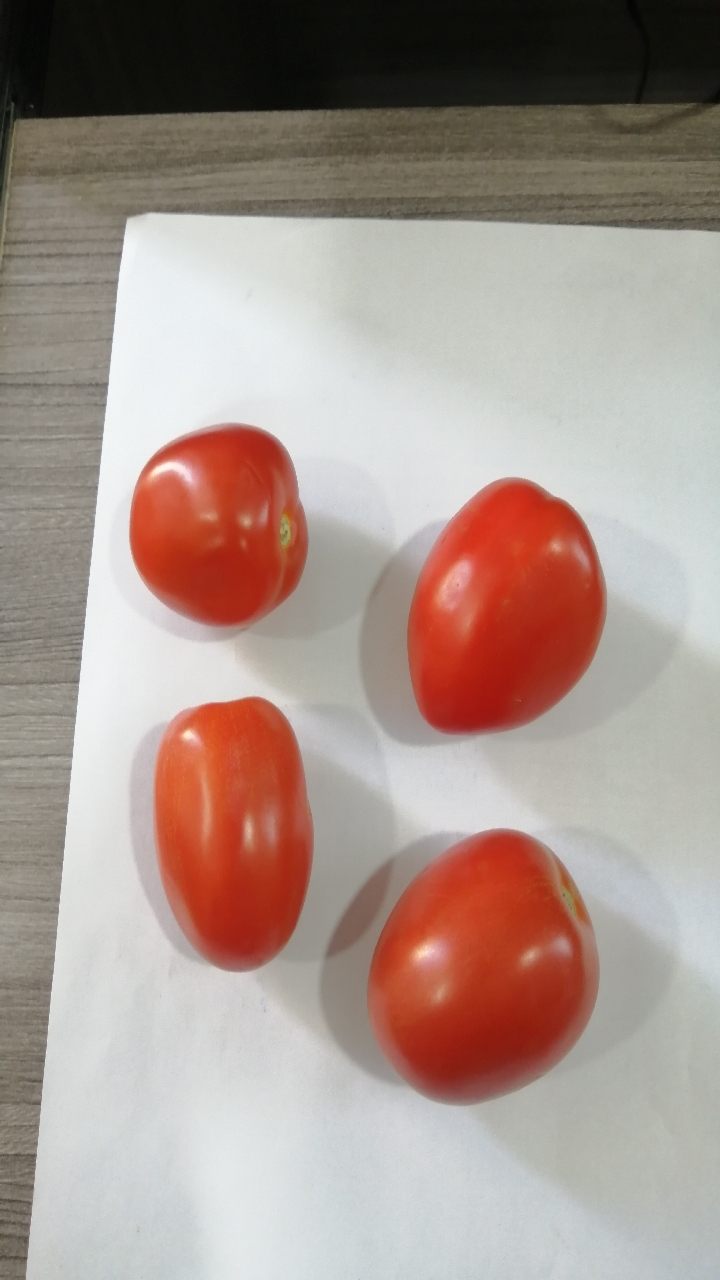tomateRojo: (357, 434, 635, 760), (340, 817, 621, 1129), (135, 675, 332, 985), (115, 388, 323, 668)
